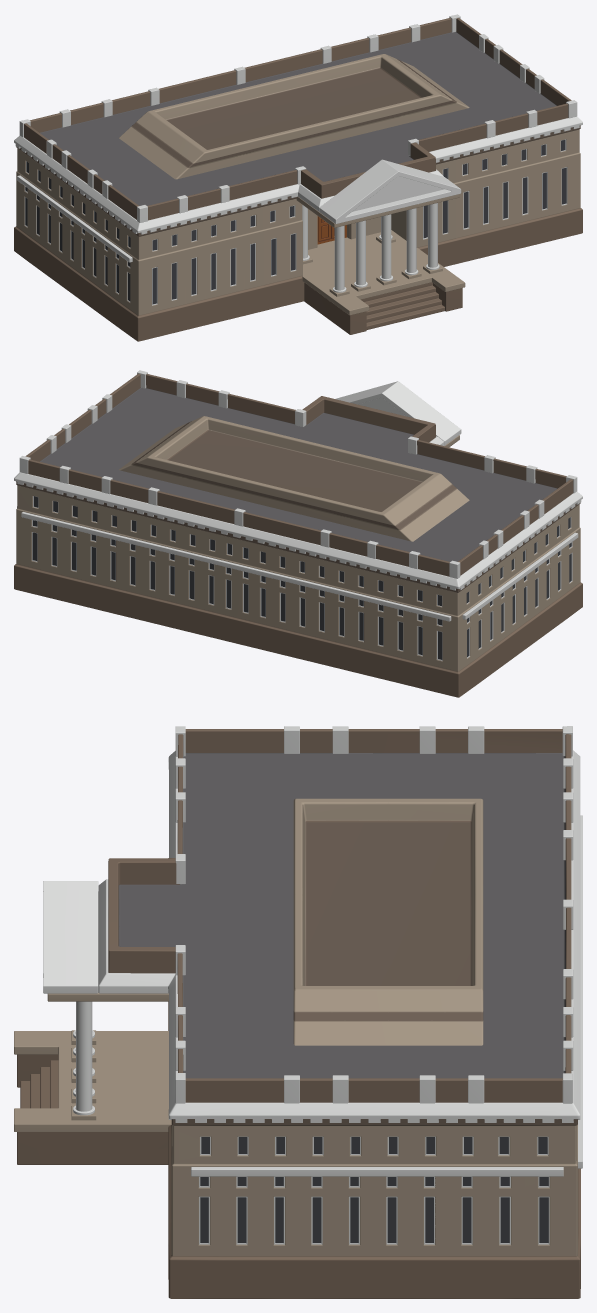
File: TownHall.fbx
The picture shows the model from 3 angles, top to bottom: view 1: azimuth 30°, elevation 25°; view 2: azimuth 150°, elevation 25°; view 3: azimuth 270°, elevation 25°; orthographic projection. The views are drawn at different scales.
Parts seen in each view (by area): view 1: node_id55; view 2: node_id55; view 3: node_id55.
Part boxes in pixels (x1=…): node_id55: x1=14, y1=14, x2=582, y2=341; node_id55: x1=14, y1=370, x2=582, y2=697; node_id55: x1=14, y1=726, x2=582, y2=1298.
Size of the model in its own units: 9943 by 3055 by 6593.
Materials: 1 (1 with a texture image).
